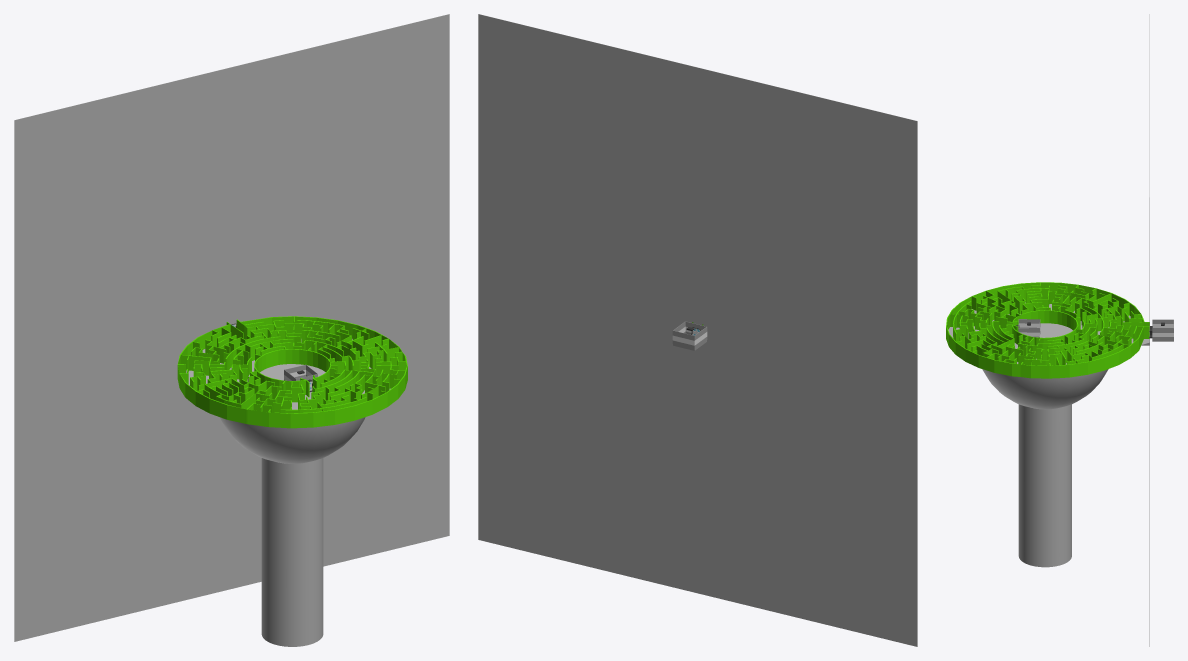
The model's file is Segap 01 25 Maze 4.fbx.
3 renders of one model, left to right at view 1: azimuth 30°, elevation 25°; view 2: azimuth 150°, elevation 25°; view 3: azimuth 270°, elevation 25°, orthographic. The views are drawn at different scales.
Parts seen in each view (by area): view 1: Cube.170, Circle.020, Sphere.019; view 2: Cube.170, Plane.054; view 3: Circle.020, Sphere.019, Cube.170, Plane.054, Plane.052.
Boxes of the visible parts, <box> form: Cube.170: <box>14,14,449,641</box>; Circle.020: <box>177,316,407,428</box>; Sphere.019: <box>186,339,390,646</box>; Cube.170: <box>478,14,917,646</box>; Plane.054: <box>672,321,707,350</box>; Circle.020: <box>946,282,1149,378</box>; Sphere.019: <box>948,302,1149,567</box>; Cube.170: <box>1149,14,1149,646</box>; Plane.054: <box>1152,319,1173,341</box>; Plane.052: <box>1018,319,1040,337</box>.
Size of the model in its own units: 12450 by 14426 by 6545.
